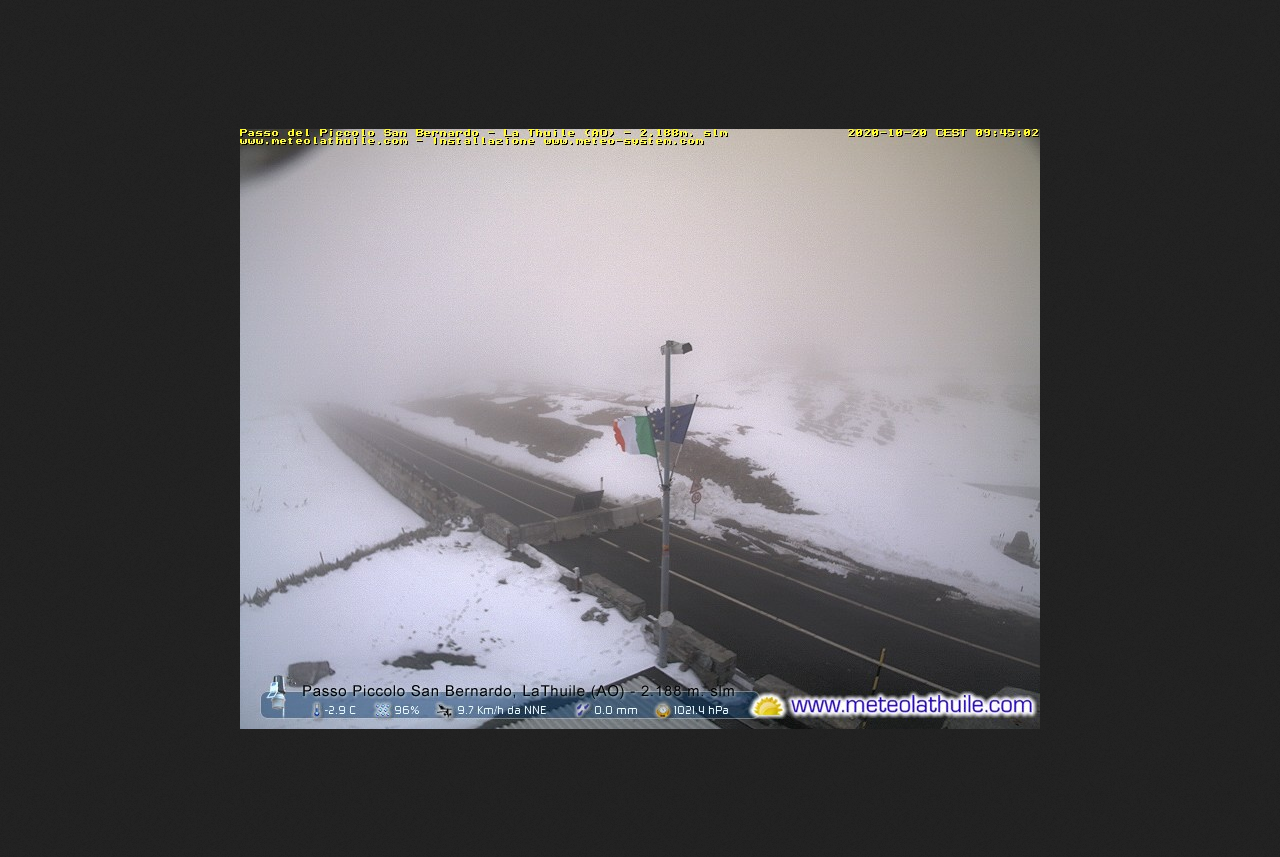yes: (645, 404, 698, 448), (608, 415, 654, 459)
